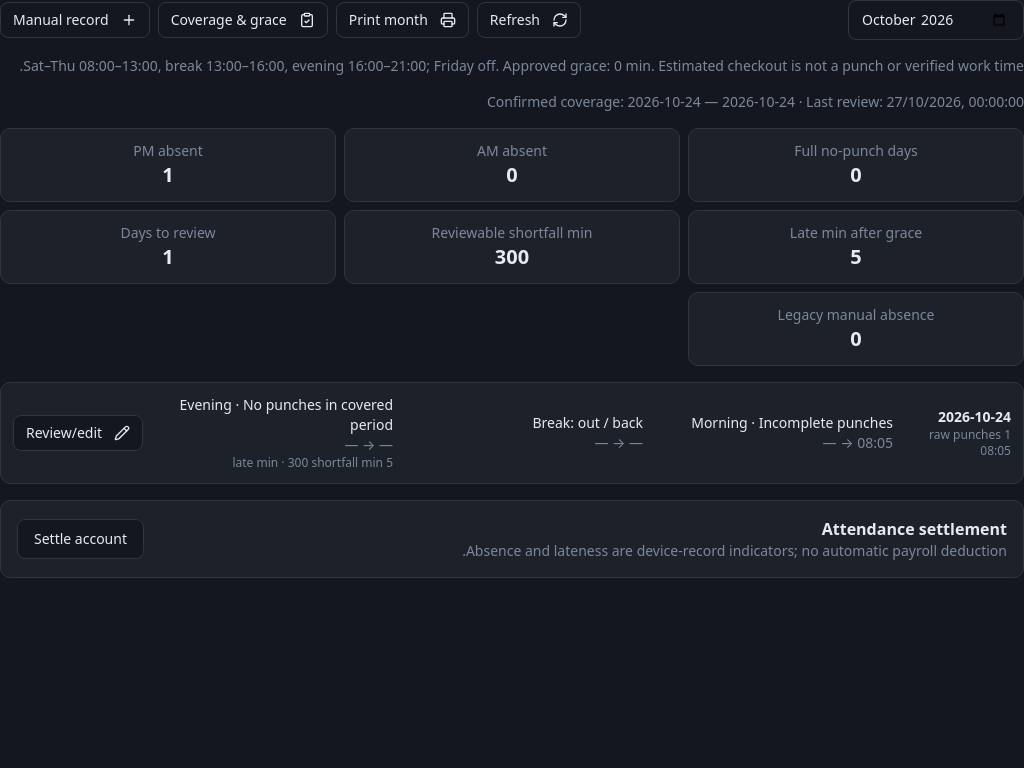
Test: employee attendance review › shows immutable raw device times inside the day-review dialog
What coordinates should you click on to do the following:
click the button "Review/edit"
I would click on:
 (78, 433)
Its box is x1=13 y1=415 x2=143 y2=451.
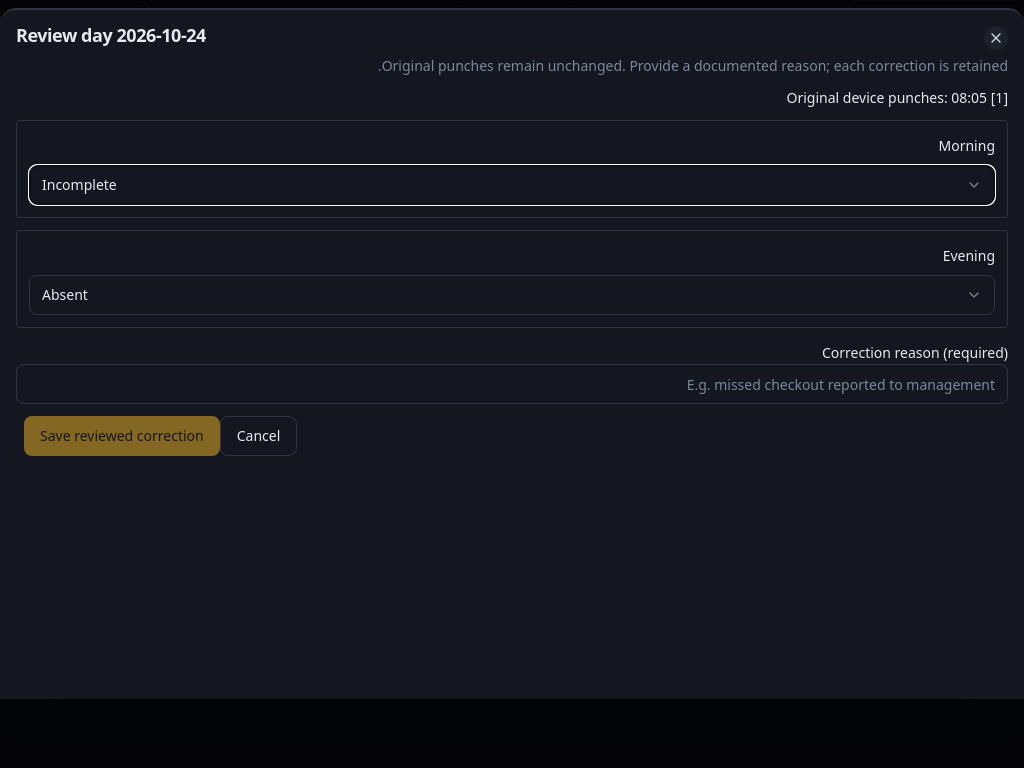
Check: the text "Original device punches: 08:05 [1]" is shown, box x1=786 y1=88 x2=1008 y2=107
Check: the text "Original punches remain unchanged" is shown, box x1=378 y1=56 x2=1008 y2=75
